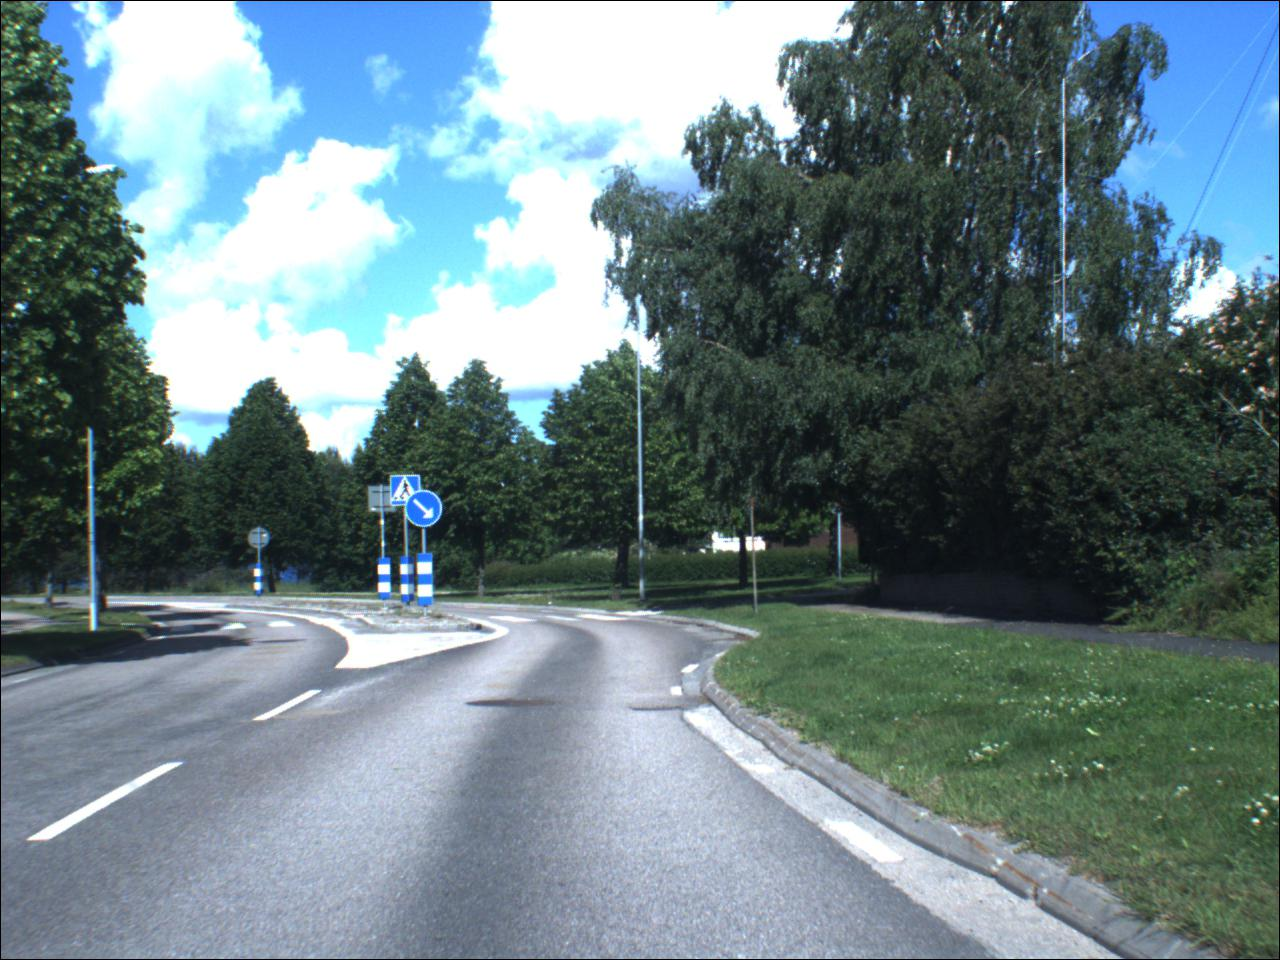PASS_RIGHT_SIDE: (408, 491, 446, 531)
PEDESTRIAN_CROSSING: (392, 477, 423, 508)
